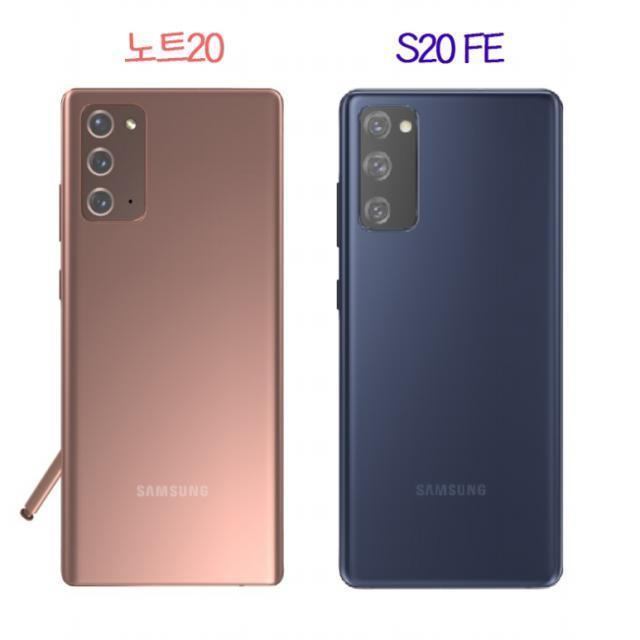phone: (337, 89, 562, 587), (60, 86, 282, 586)
